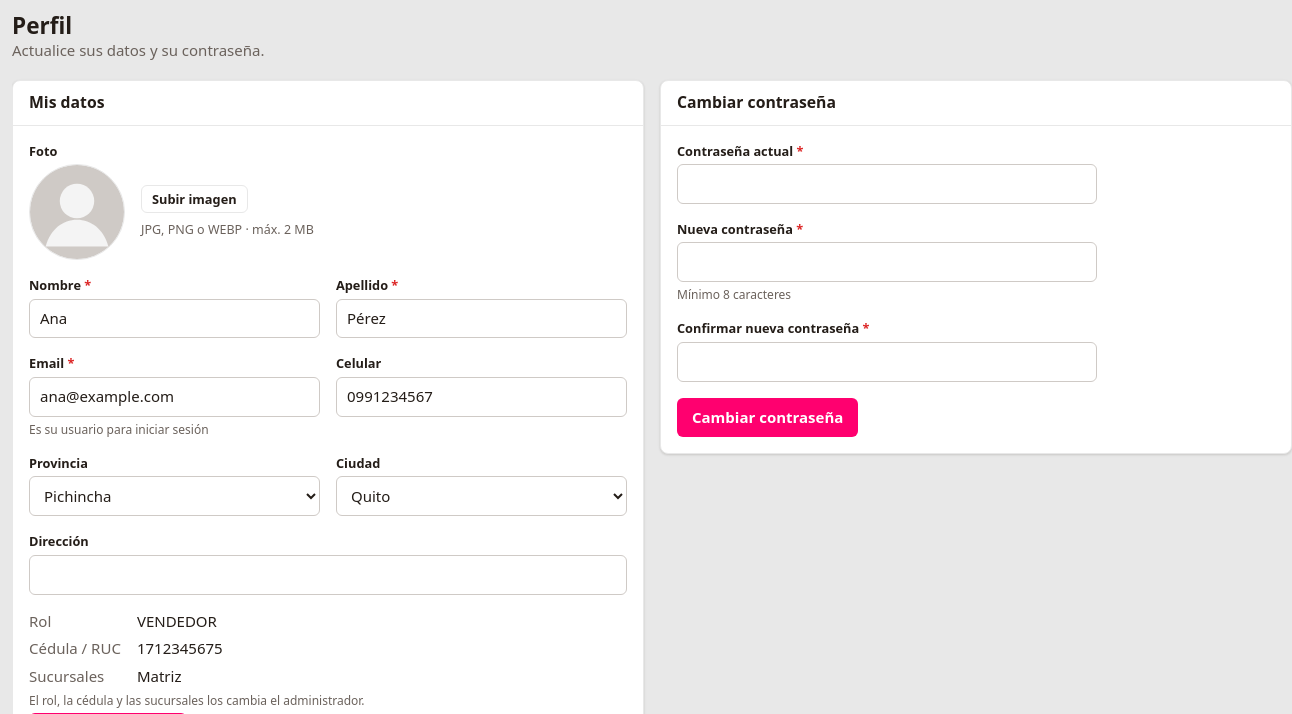
Test: ProfilePage › changes the password and clears the form
Type "Secret1234" into the password field labelled "Contraseña actual *" at (887, 184), box [677, 164, 1097, 204]
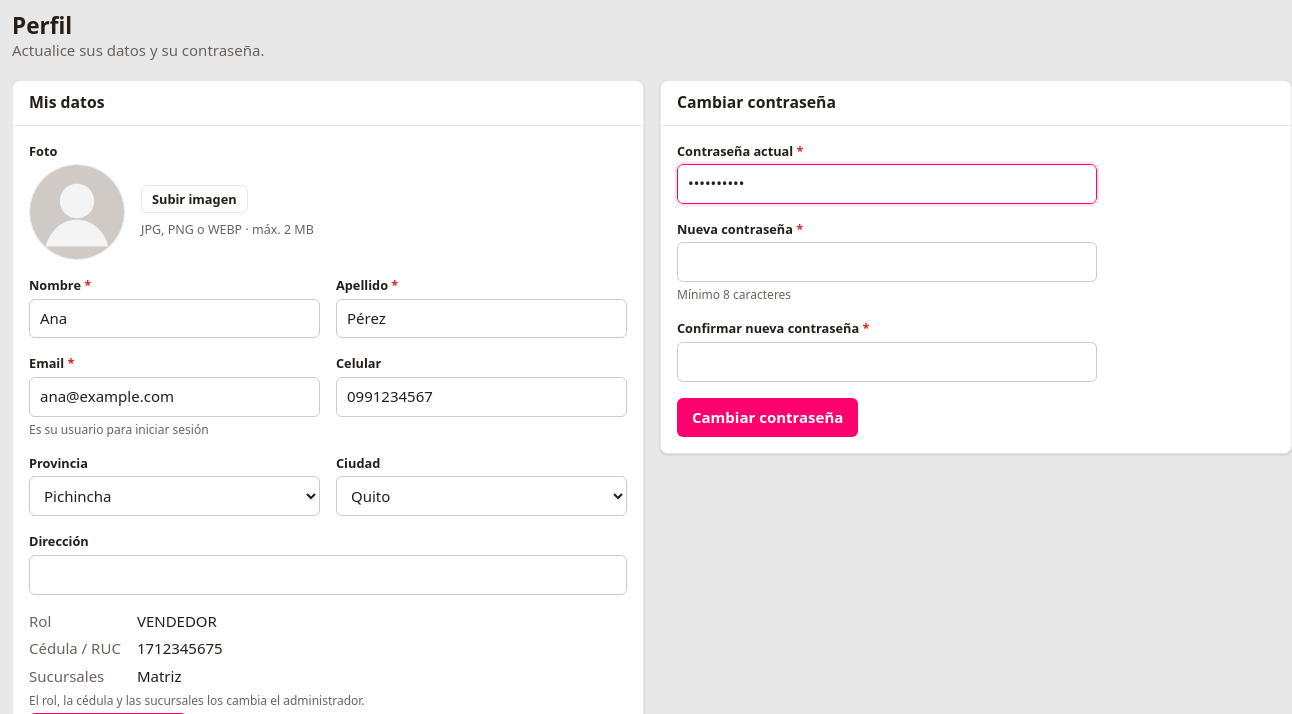
Type "NuevaClave99" into the password field labelled "Nueva contraseña *" at (887, 262), box [677, 242, 1097, 282]
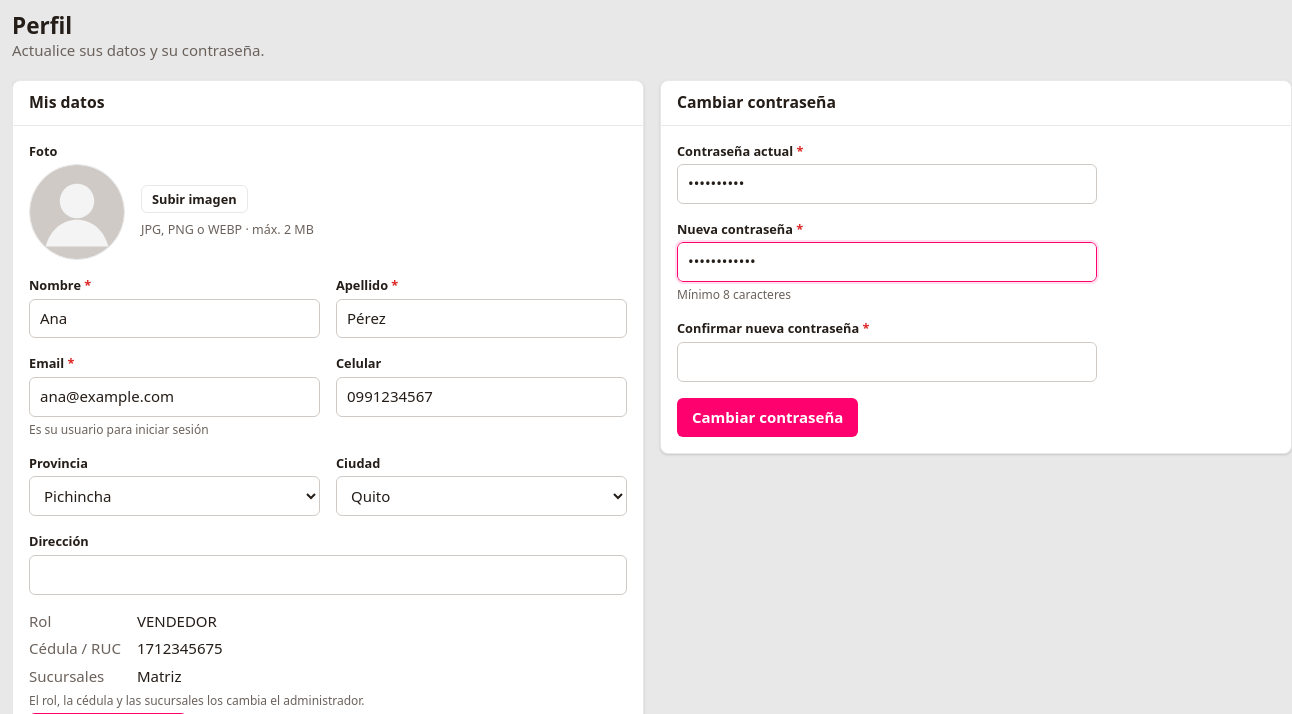
Type "NuevaClave99" into the password field labelled "Confirmar nueva contraseña *" at (887, 362), box [677, 342, 1097, 382]
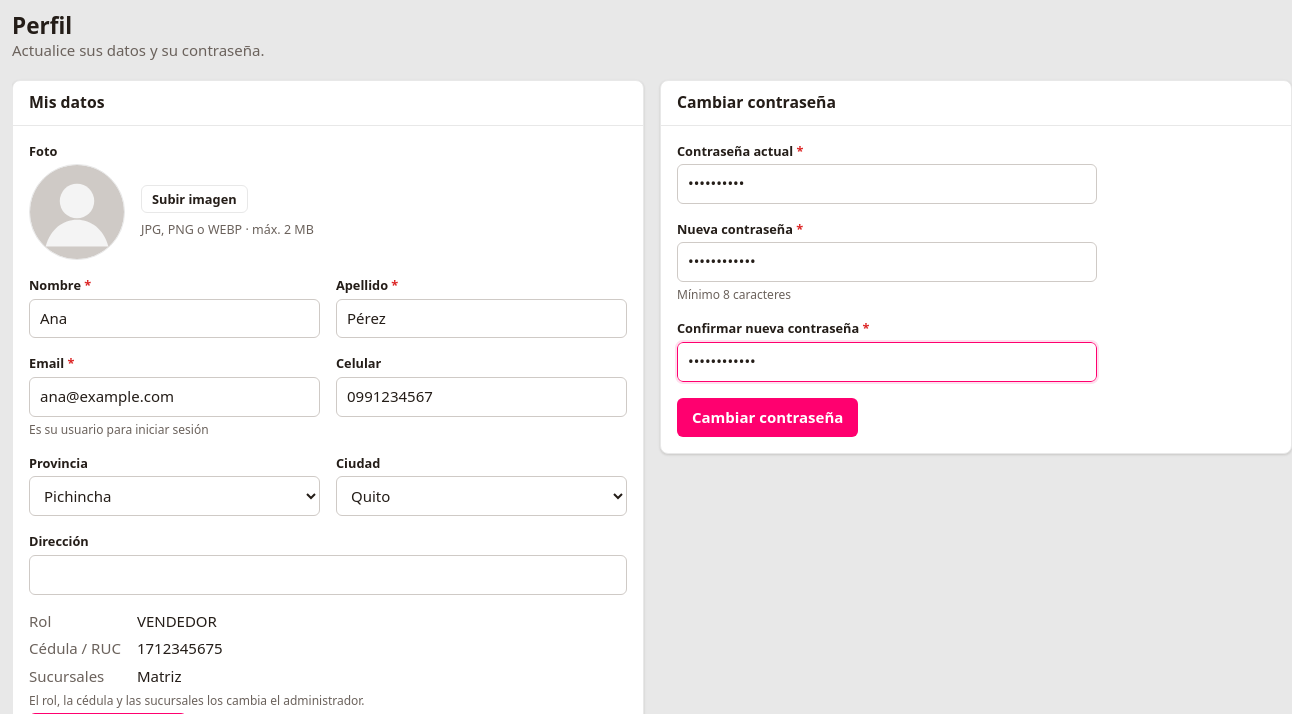
Click the button "Cambiar contraseña" at (768, 418), box [677, 398, 858, 438]
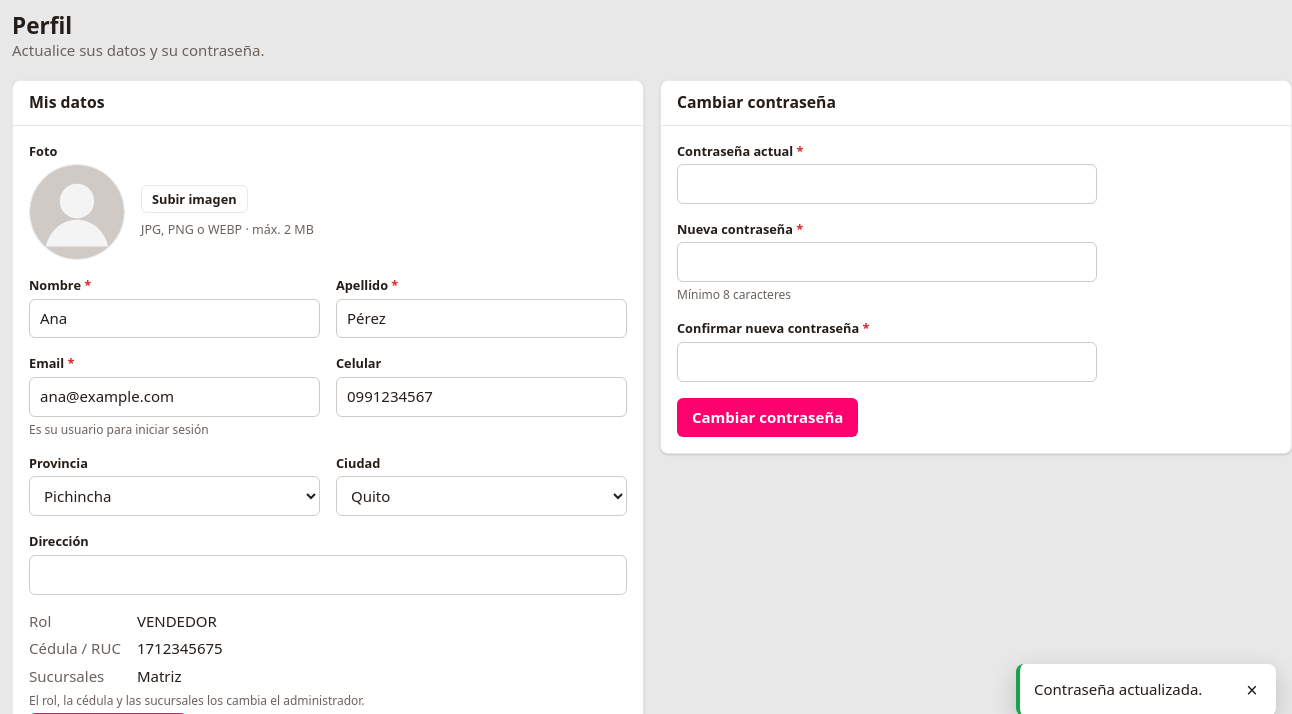
Expected: the text "Contraseña actualizada." is shown, [1034, 679, 1228, 701]
Expected: the password field labelled "Contraseña actual *" is empty, [677, 164, 1097, 204]
